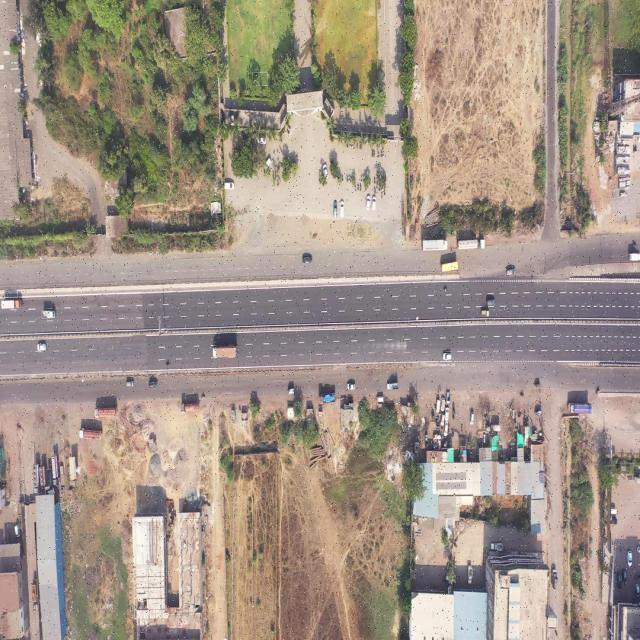3W: (490, 422, 501, 433), (535, 409, 542, 417), (287, 388, 295, 395), (534, 383, 542, 389)
Bus: (440, 262, 458, 274)
Cars: (443, 352, 452, 363), (322, 165, 329, 179), (627, 550, 633, 566), (257, 136, 267, 145), (506, 268, 516, 277), (37, 343, 47, 352), (634, 582, 640, 597), (14, 524, 20, 538), (347, 382, 356, 391), (224, 182, 234, 190), (622, 568, 627, 584), (265, 158, 272, 169), (371, 196, 376, 211), (333, 200, 337, 218), (340, 199, 344, 217), (303, 255, 312, 263), (487, 298, 496, 306), (376, 396, 385, 404), (610, 506, 617, 516), (366, 194, 370, 210), (126, 380, 134, 388), (618, 572, 622, 588), (441, 396, 445, 412), (149, 380, 158, 387), (470, 412, 474, 426), (436, 400, 440, 414), (440, 413, 444, 426), (611, 517, 617, 525), (636, 545, 640, 557), (165, 362, 170, 367), (202, 394, 206, 400)
LCV: (41, 310, 56, 320), (491, 542, 504, 552), (467, 565, 473, 585), (628, 252, 640, 261), (387, 383, 398, 391), (481, 310, 490, 318), (446, 391, 451, 405)
M2W: (442, 287, 449, 293), (595, 388, 601, 395), (633, 146, 638, 154), (633, 242, 638, 249), (520, 391, 525, 397), (359, 183, 362, 192), (359, 140, 362, 149), (380, 148, 383, 157), (287, 127, 290, 135), (382, 147, 384, 158), (380, 188, 382, 198), (372, 148, 374, 158), (373, 148, 375, 158), (378, 149, 380, 159), (374, 185, 376, 194), (357, 182, 359, 191), (346, 174, 348, 183), (384, 188, 386, 196), (374, 176, 376, 184), (348, 174, 350, 182), (354, 185, 356, 192), (341, 174, 343, 181), (272, 170, 274, 177), (356, 143, 358, 149), (351, 174, 352, 183), (361, 175, 362, 182), (275, 169, 276, 176), (379, 185, 380, 190), (377, 183, 377, 189), (350, 143, 350, 149), (352, 143, 352, 149)
MAV: (52, 453, 62, 489), (458, 239, 485, 251), (422, 240, 448, 252), (30, 582, 40, 611), (95, 407, 116, 419), (32, 463, 40, 494), (1, 300, 22, 310), (180, 402, 199, 413)
Truck: (567, 401, 592, 414), (212, 346, 238, 357), (319, 393, 336, 405)
